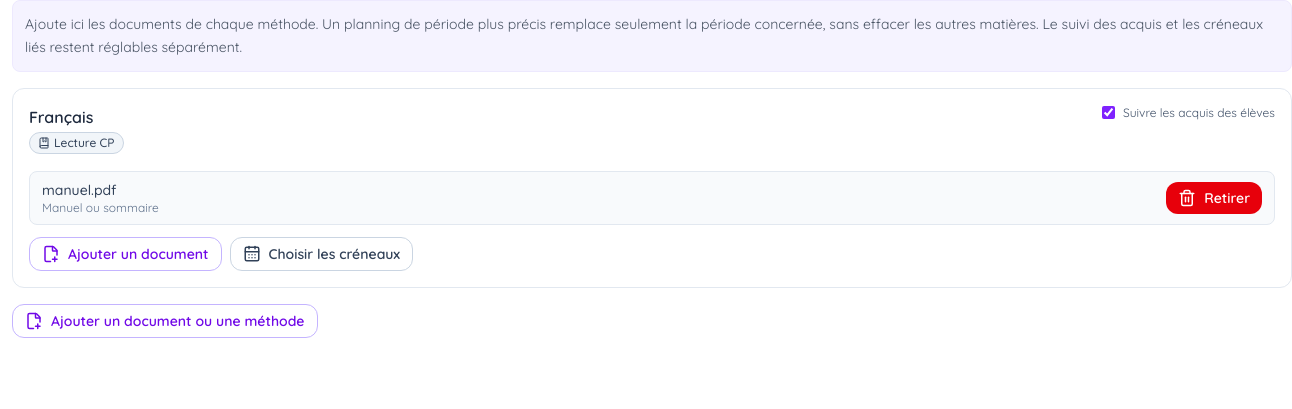
Test: MethodesEditor avec sources persistantes › rend une erreur accessible et réactive le bouton
Click the button with aria-label "Retirer manuel.pdf": (1214, 198) x1=1166 y1=182 x2=1262 y2=214
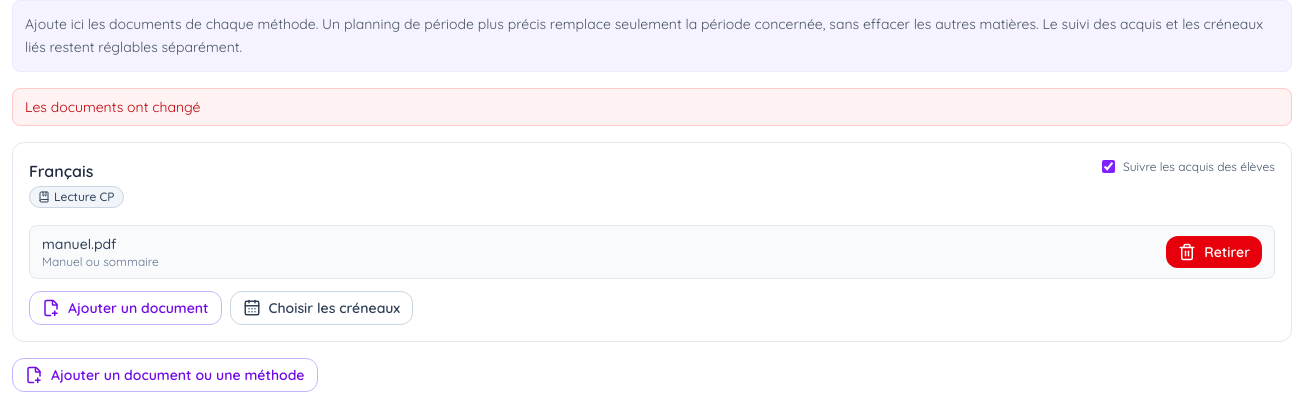
Expected: the button with aria-label "Retirer manuel.pdf" is enabled, x1=1166 y1=236 x2=1262 y2=268
Expected: the message reads "Les documents ont changé", x1=25 y1=98 x2=200 y2=116
